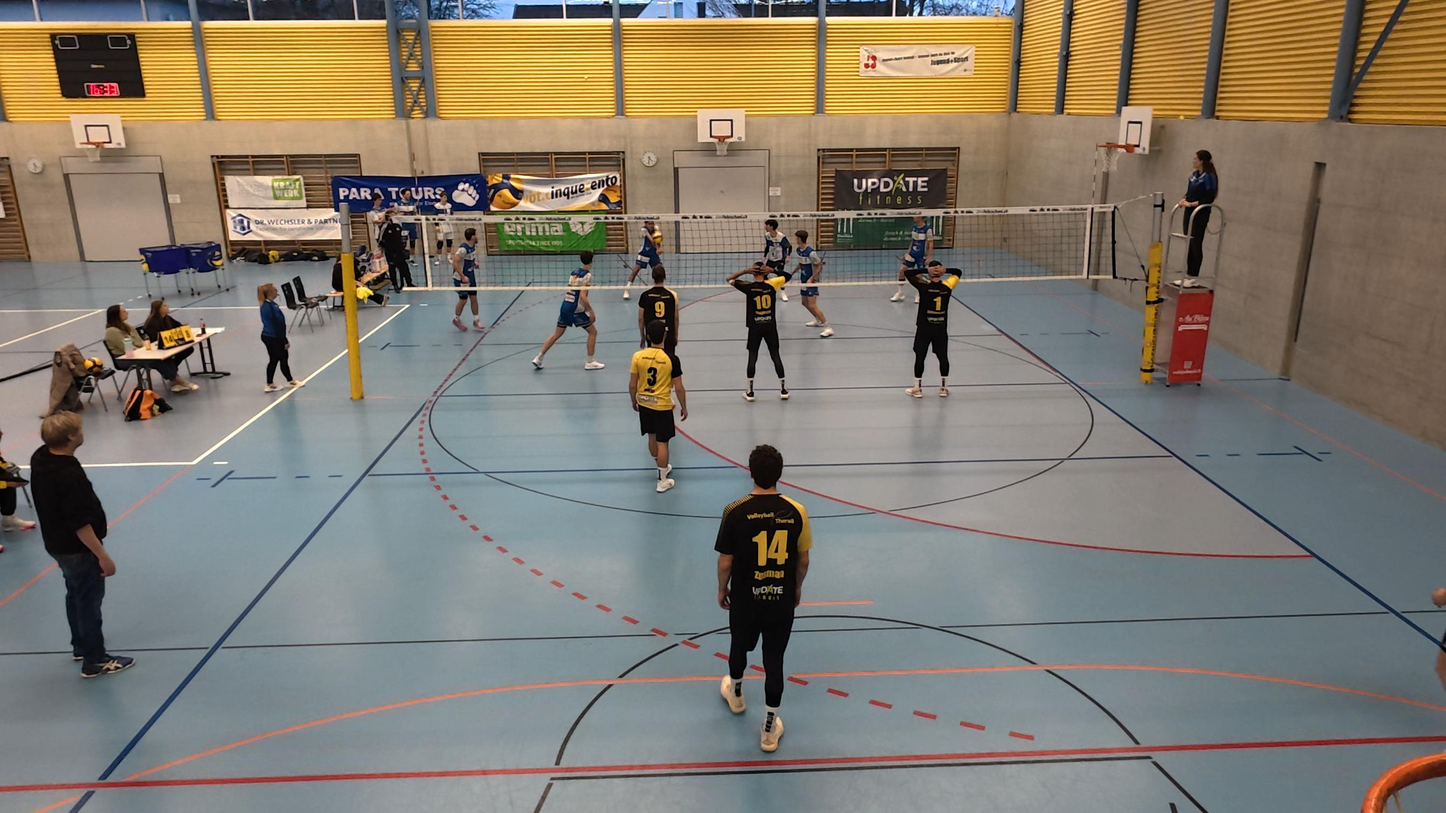ricezione: (625, 220, 664, 301)
